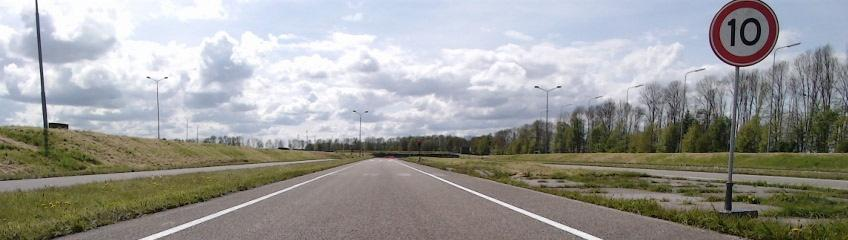Speed-limit-10km-h-: (708, 1, 780, 67)
